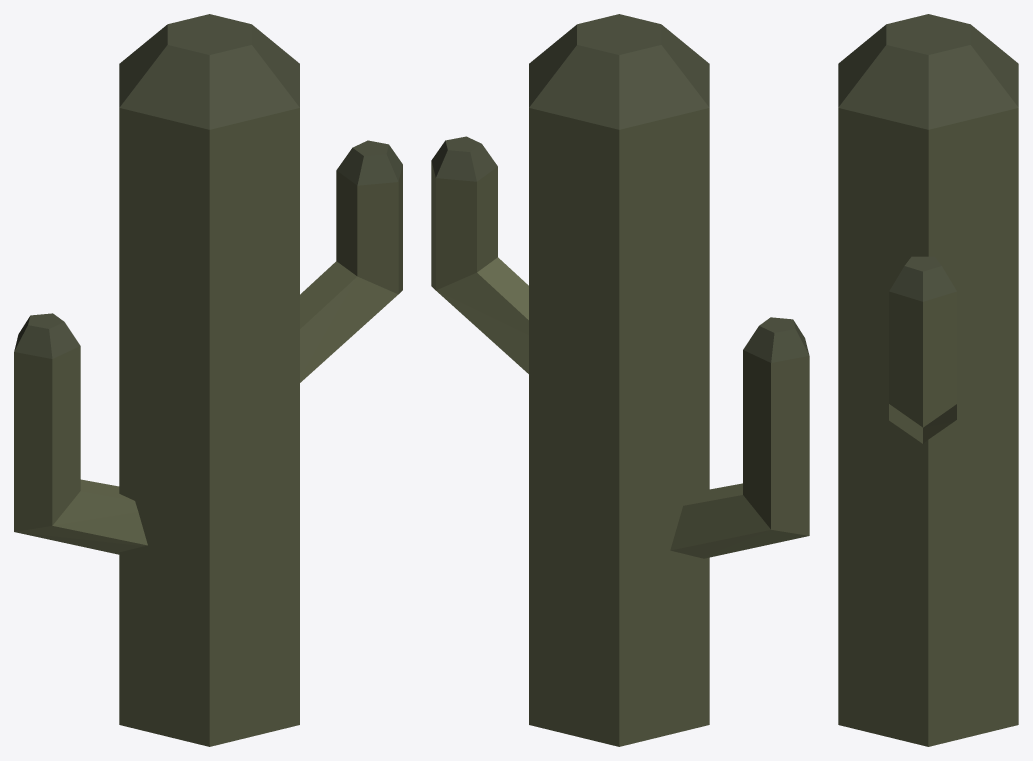
Rendered from TB_D_Env_CactusB_C.FBX.
The picture shows the model from 3 angles, left to right: view 1: azimuth 30°, elevation 25°; view 2: azimuth 150°, elevation 25°; view 3: azimuth 270°, elevation 25°; orthographic projection.
Visible parts, largest first — view 1: TB_D_Env_CactusB_C; view 2: TB_D_Env_CactusB_C; view 3: TB_D_Env_CactusB_C.
Part boxes in pixels (<box>): TB_D_Env_CactusB_C: <box>14,14,402,746</box>; TB_D_Env_CactusB_C: <box>431,14,809,746</box>; TB_D_Env_CactusB_C: <box>838,14,1018,746</box>.
Bounding box in the file's own units: 1.42 × 2.37 × 0.5799.
